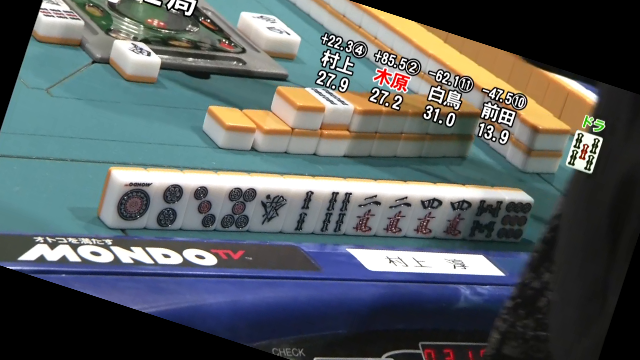Tehai: (105, 163, 542, 255)
